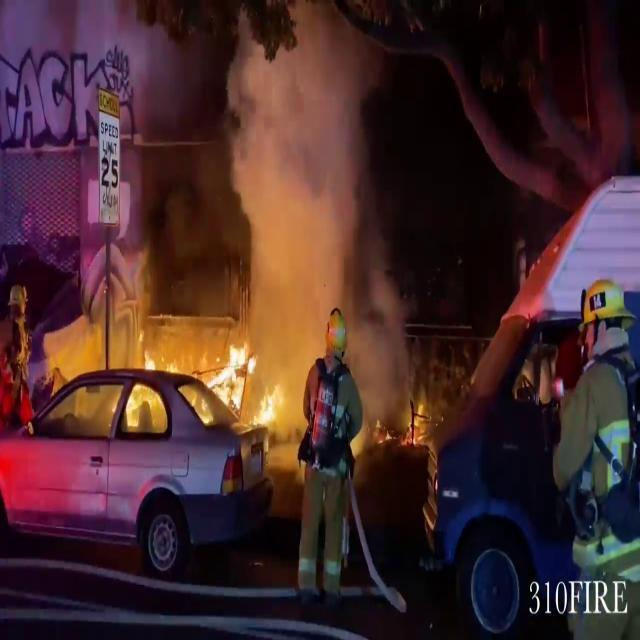Fire: (200, 327, 262, 429), (405, 396, 432, 450)
Smoke: (191, 2, 420, 392)
